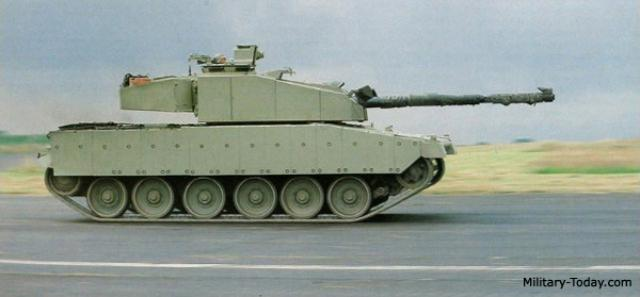tank: (41, 66, 451, 217)
